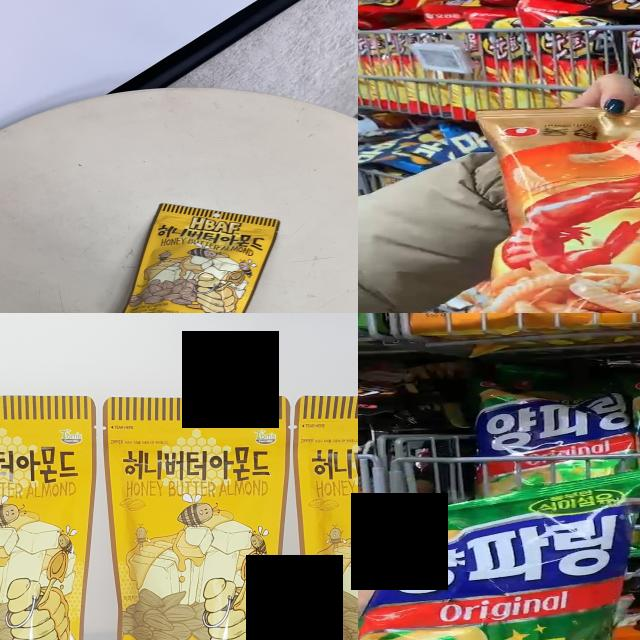honeyAmond: (99, 389, 294, 640), (0, 394, 99, 640), (297, 387, 358, 640), (152, 210, 259, 313)
onionRing: (358, 475, 629, 640), (475, 383, 631, 538)
shrimpGGang: (433, 99, 640, 313)
